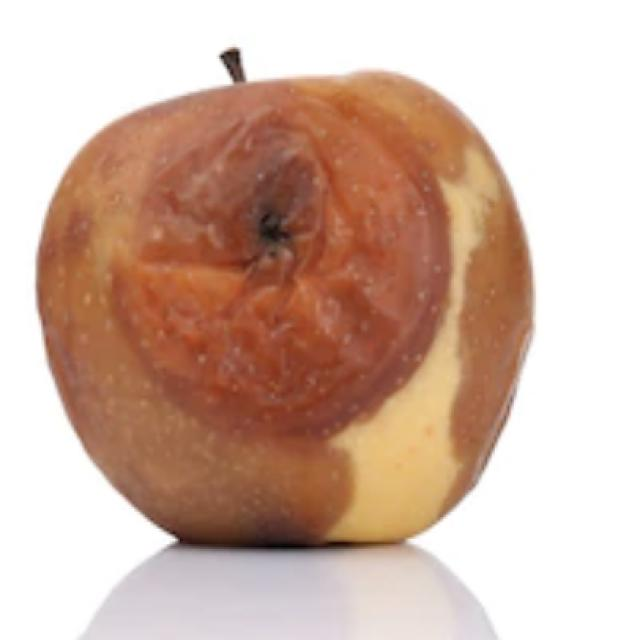rotten_apple: (38, 50, 536, 552)
